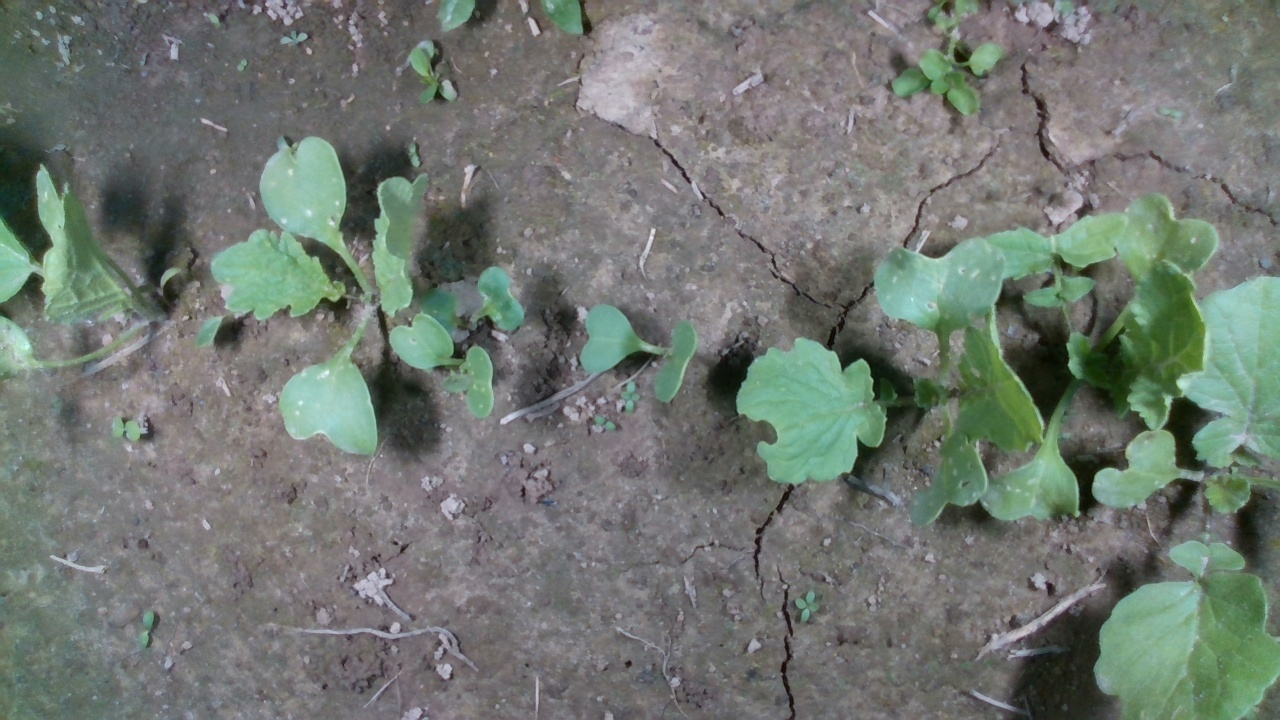weed: (108, 414, 144, 442), (793, 588, 820, 624), (136, 608, 156, 649), (618, 378, 641, 413), (275, 28, 309, 47), (404, 140, 422, 169), (593, 414, 616, 432), (237, 57, 250, 72)
